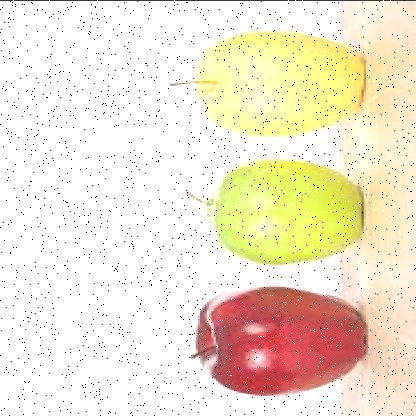apple: (200, 278, 370, 394), (196, 29, 364, 133), (200, 158, 359, 264)
